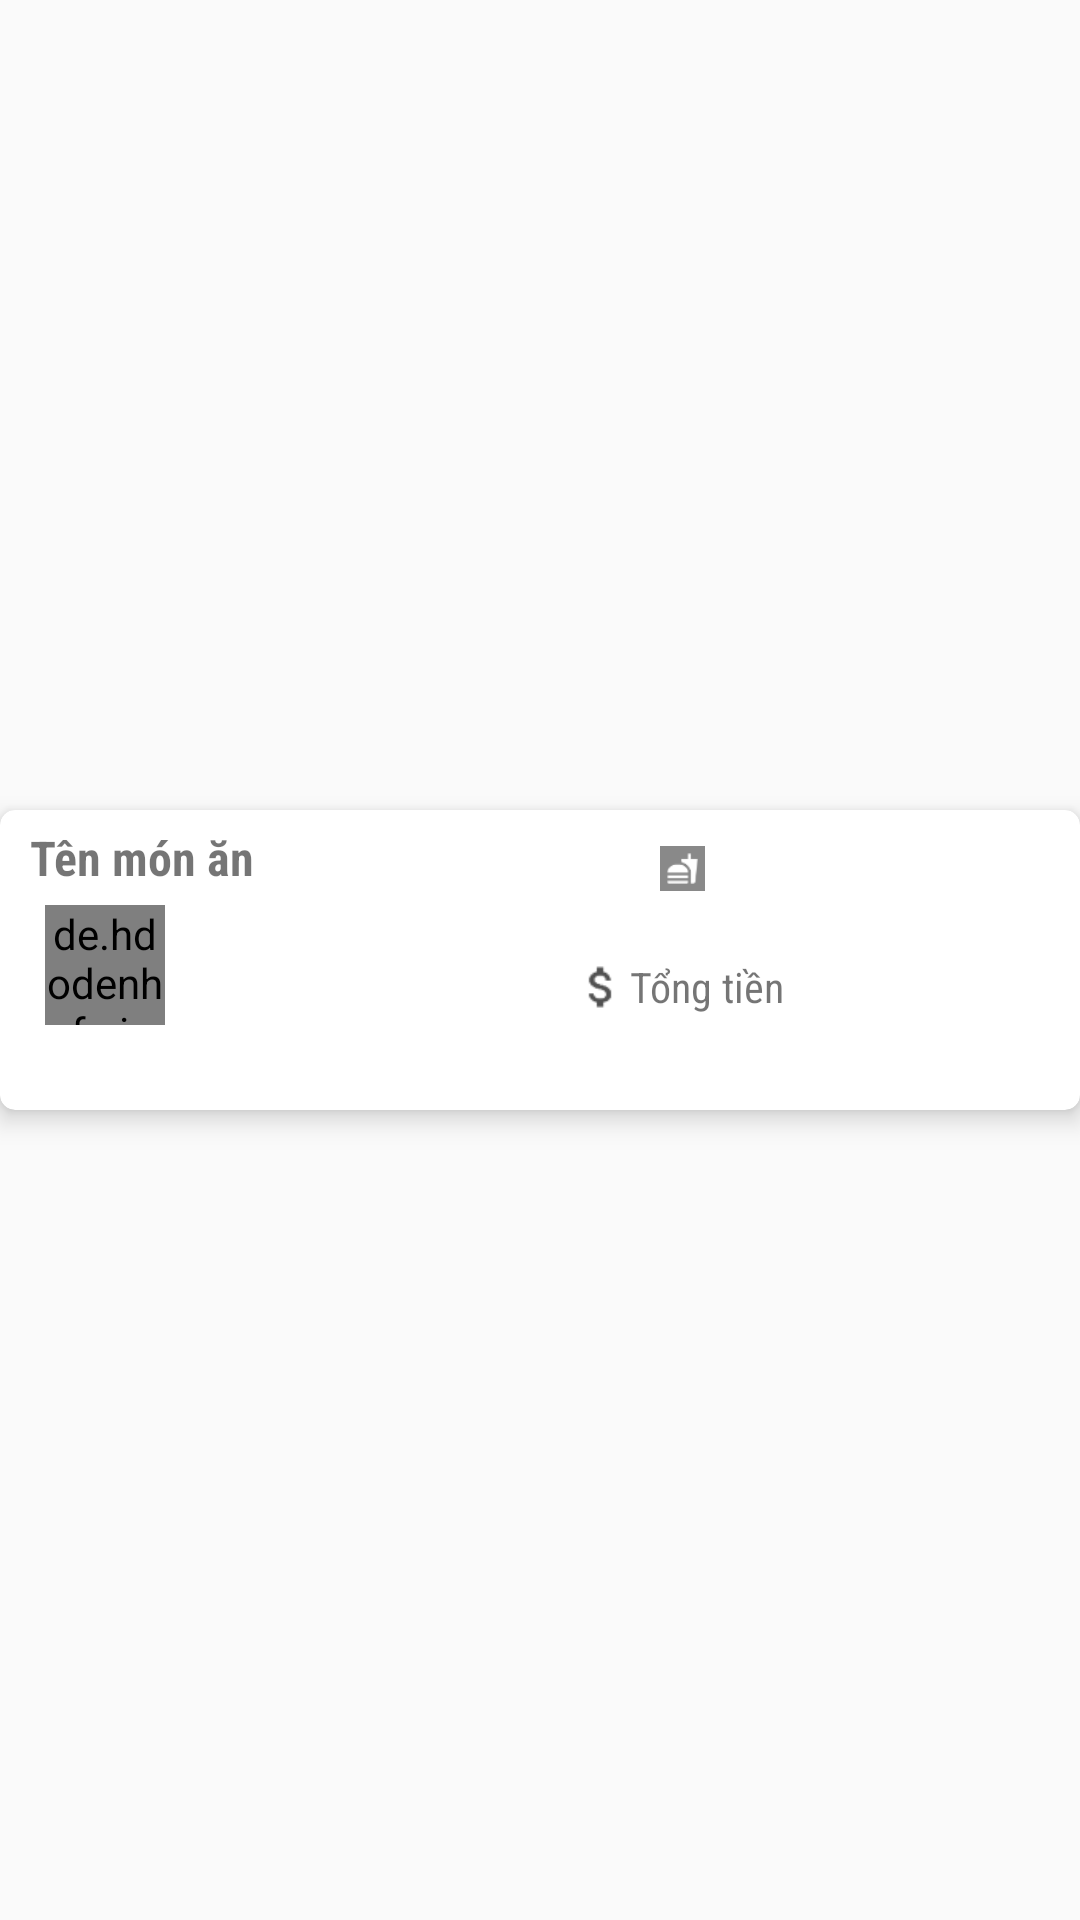

Point at icon controls on the screen. Image size 1080w x 1920h, points as point (x, y).
money: point (600, 987)
